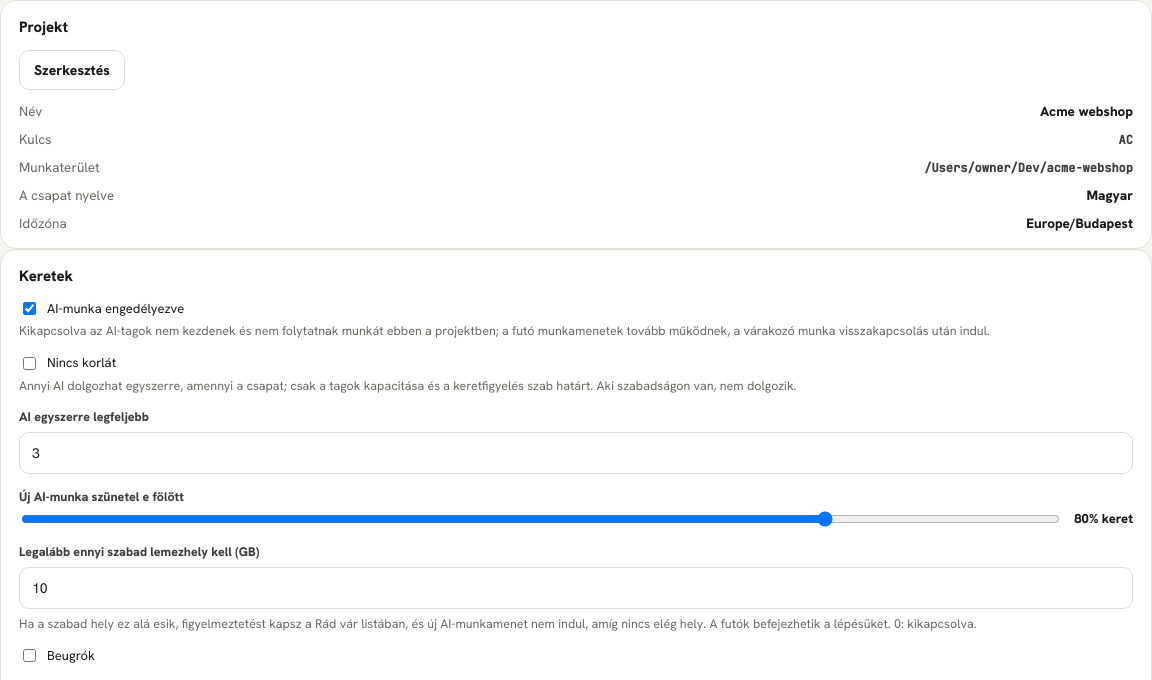
Scenario: settings section editors › locks the limits while another section is being edited, so the open editor keeps its version
Click the button "Szerkesztés".
click(72, 70)  # box top-left (19, 50), bottom-right (125, 90)
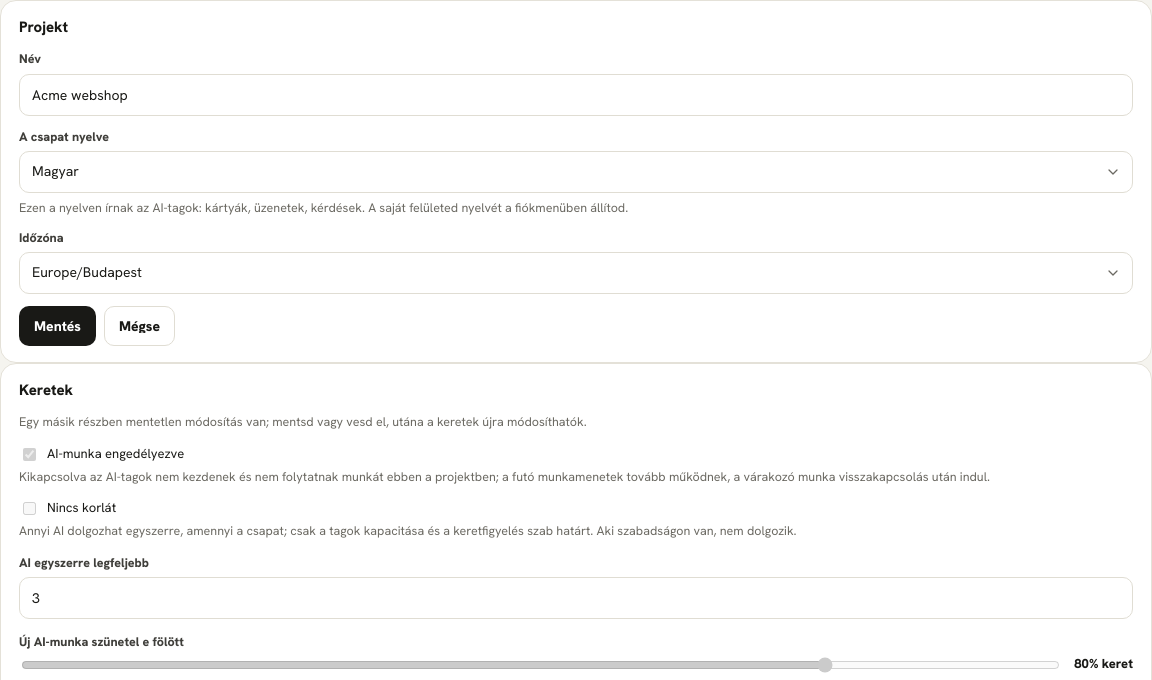
Expected: the text "Egy másik részben mentetlen módosítás van; mentsd vagy vesd el, utána a keretek újra módosíthatók." is shown, top-left (19, 413), bottom-right (587, 430)
Click the button "Mégse".
click(139, 326)  # box top-left (104, 306), bottom-right (175, 346)
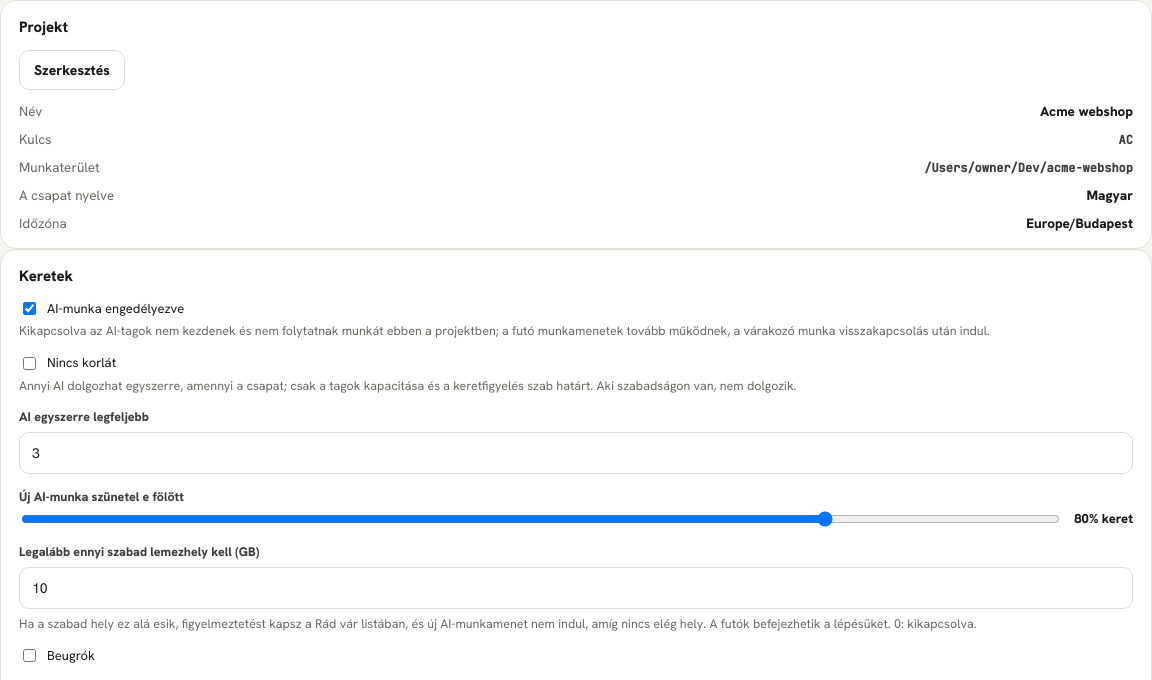
Expected: the text "Egy másik részben mentetlen módosítás van; mentsd vagy vesd el, utána a keretek újra módosíthatók." is gone
